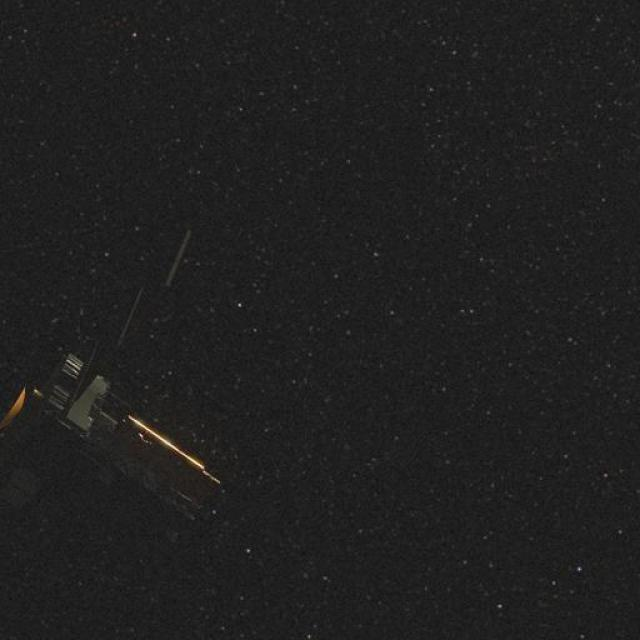soho: (0, 237, 224, 535)
